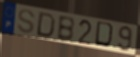2: (77, 19, 94, 46)
9: (117, 25, 134, 53)
B: (56, 16, 76, 43)
D: (93, 20, 116, 50), (35, 11, 57, 39)
S: (17, 8, 37, 35)
